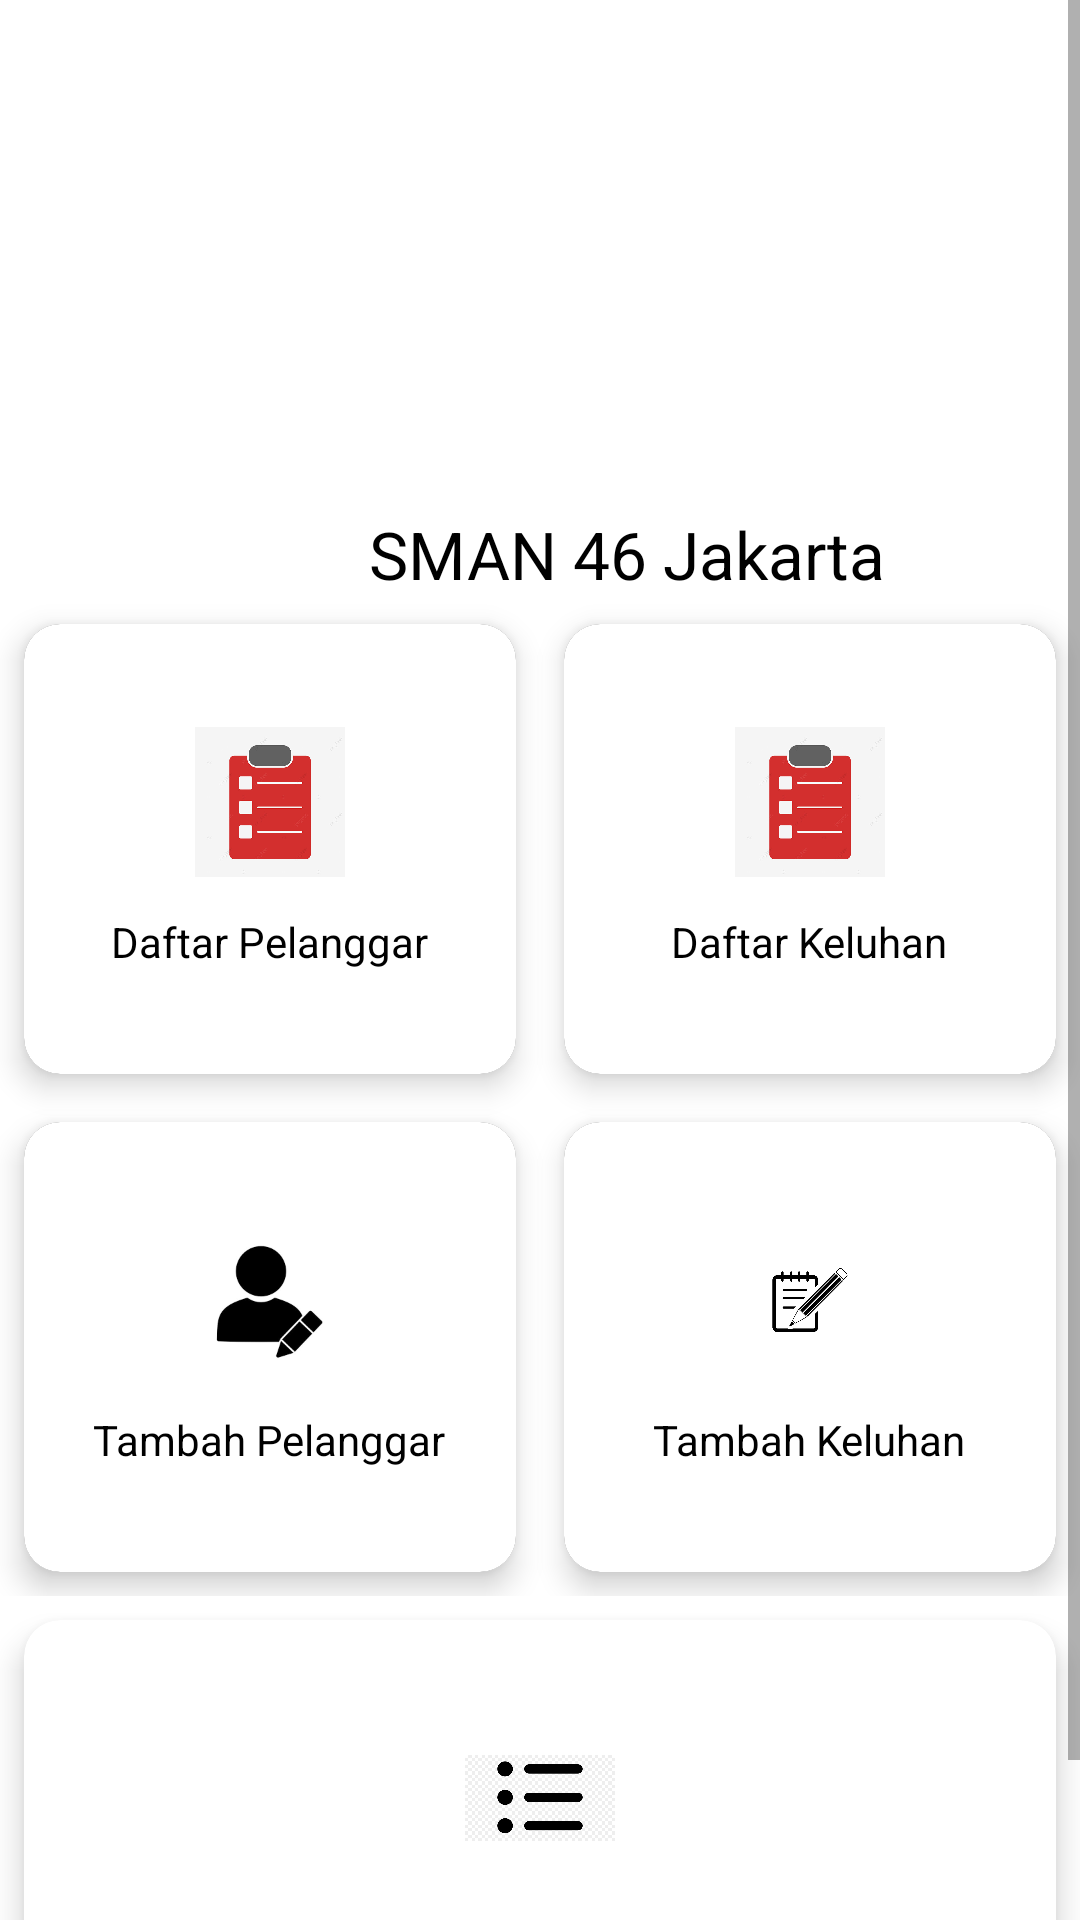

Icon bounding boxes for this 1080 x 1920 phone screenshot, format (x1, y1, x2, y2):
input: (772, 1268, 848, 1332)
person: (216, 1246, 323, 1358)
